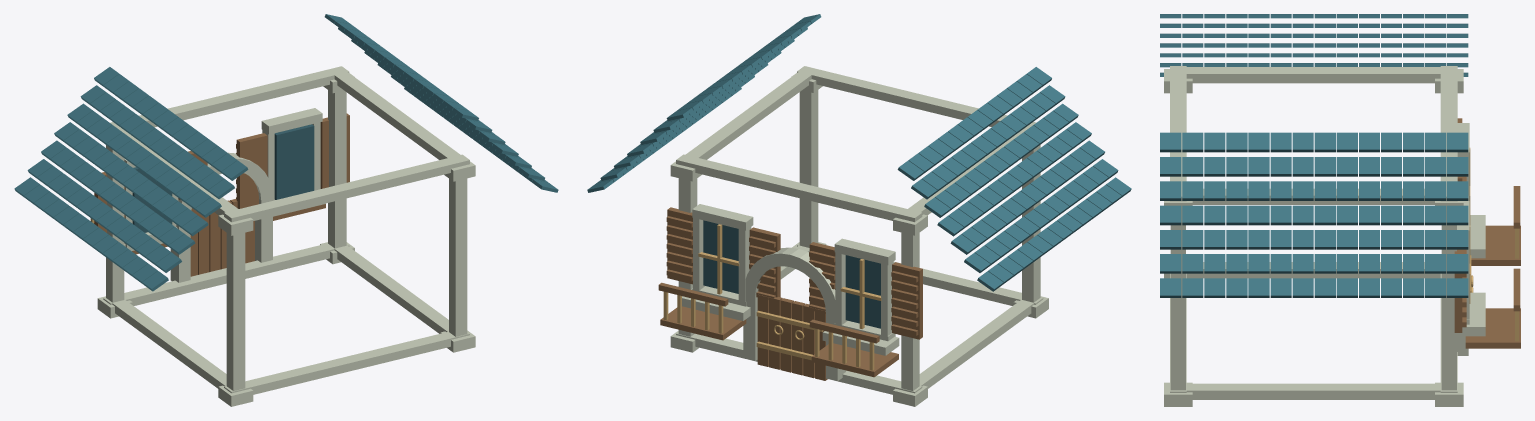
File: timber_yard.glb
3 views of the same model, side by side, from view 1: azimuth 30°, elevation 25°; view 2: azimuth 150°, elevation 25°; view 3: azimuth 270°, elevation 25° (orthographic). The views are drawn at different scales.
Parts seen in each view (by area): view 1: Recessed azure arcade glazing.004; view 2: Recessed azure arcade glazing.004; view 3: Recessed azure arcade glazing.004.
Part boxes in pixels (x1,y1,x2,y2): Recessed azure arcade glazing.004: (14,14,558,406); Recessed azure arcade glazing.004: (587,14,1131,406); Recessed azure arcade glazing.004: (1160,14,1520,406).
Size of the model in its own units: 6.23 by 3.48 by 4.26.
